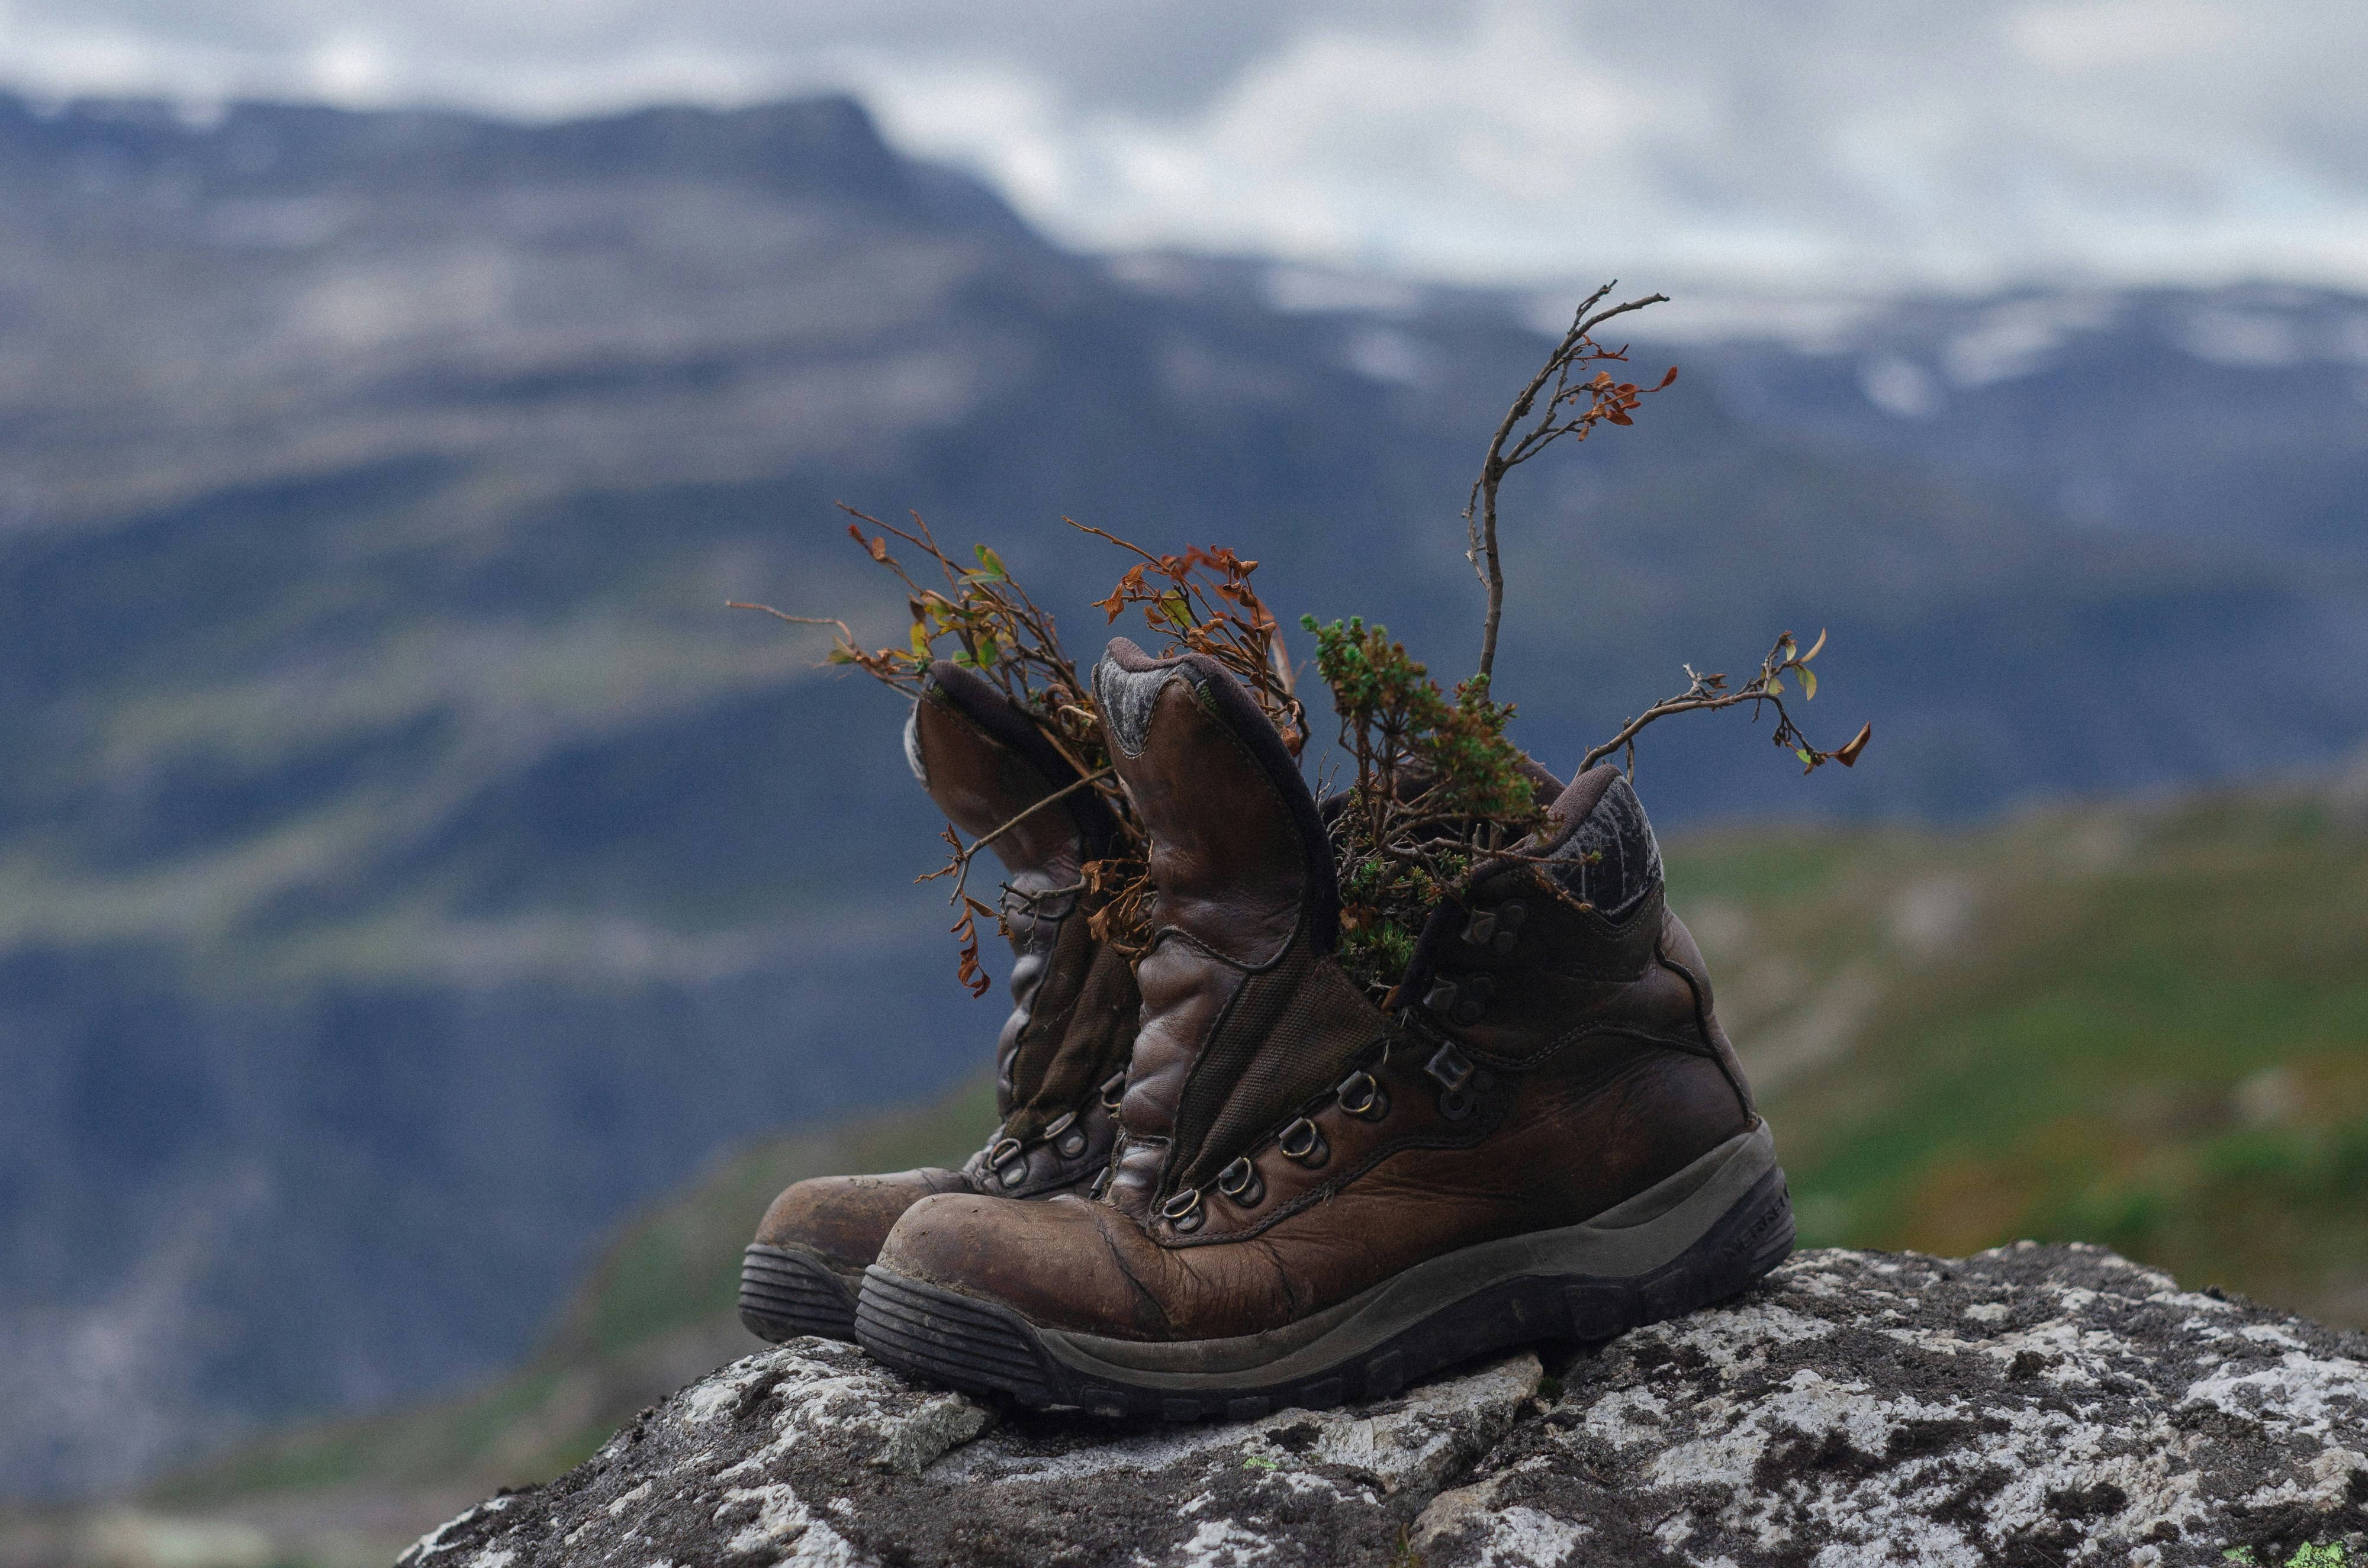Footwear: (690, 653, 1804, 1381)
